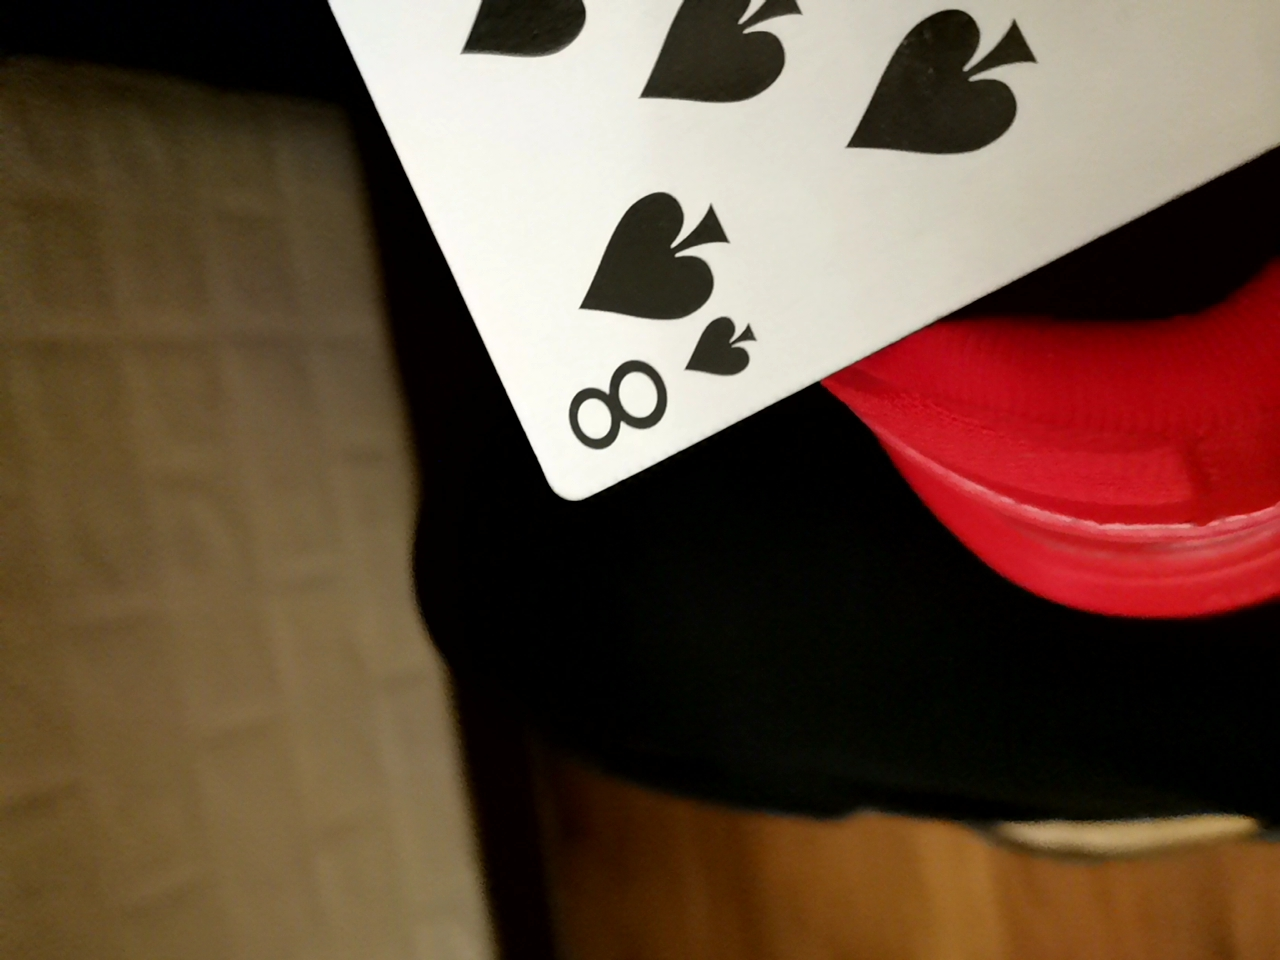ht 8: (258, 4, 1277, 549)
